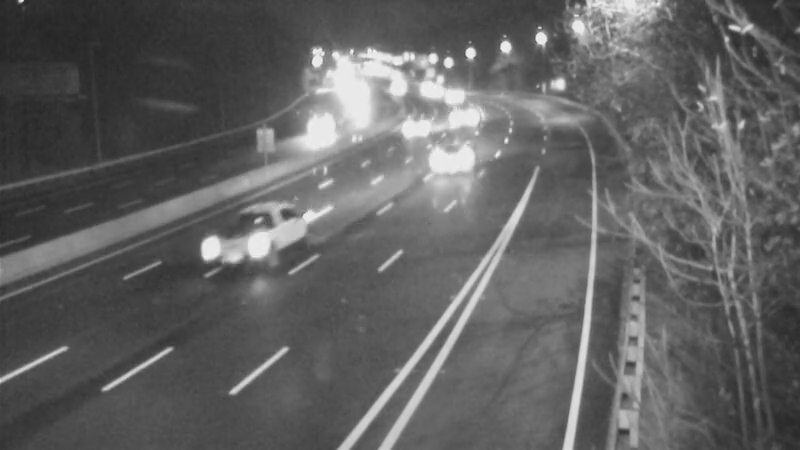vehicle: (420, 117, 500, 197), (191, 208, 271, 288), (432, 90, 482, 140), (396, 96, 446, 146), (290, 96, 340, 146)
